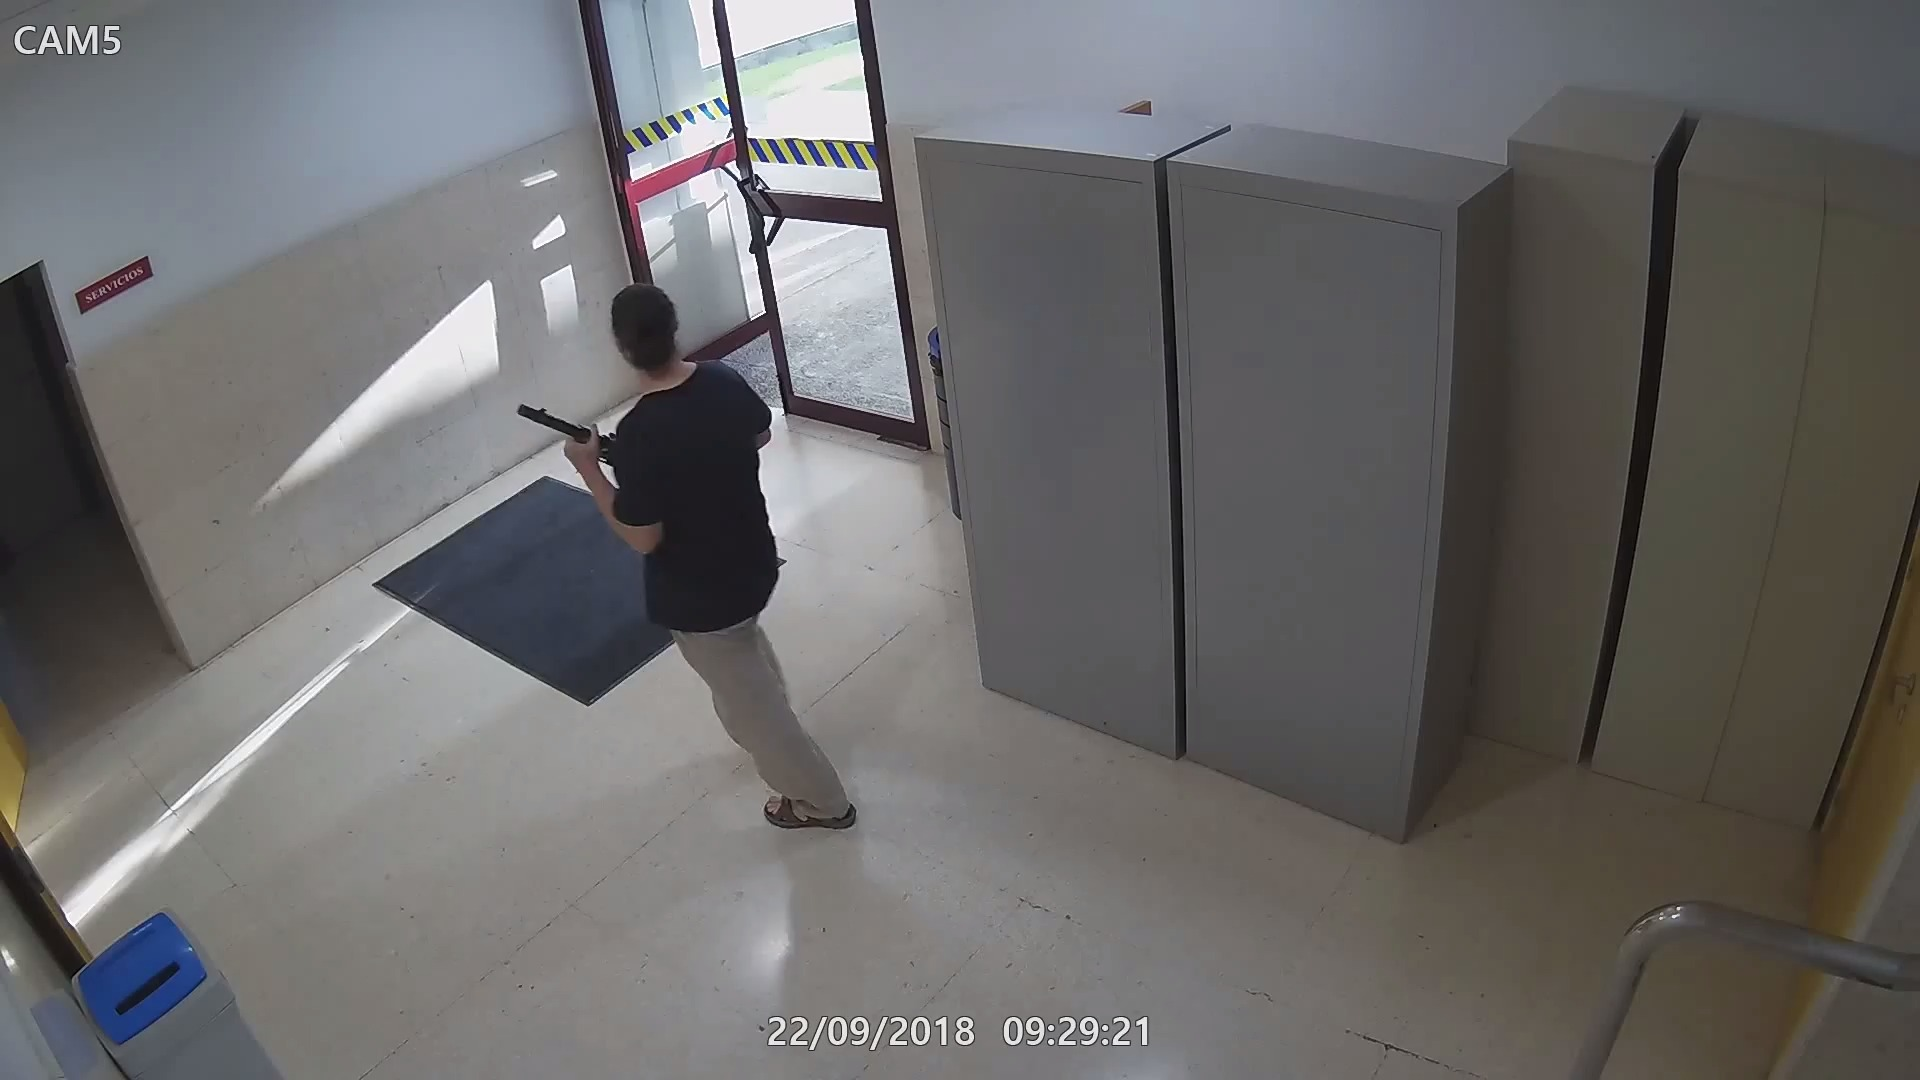Short_rifle: (513, 401, 626, 495)
